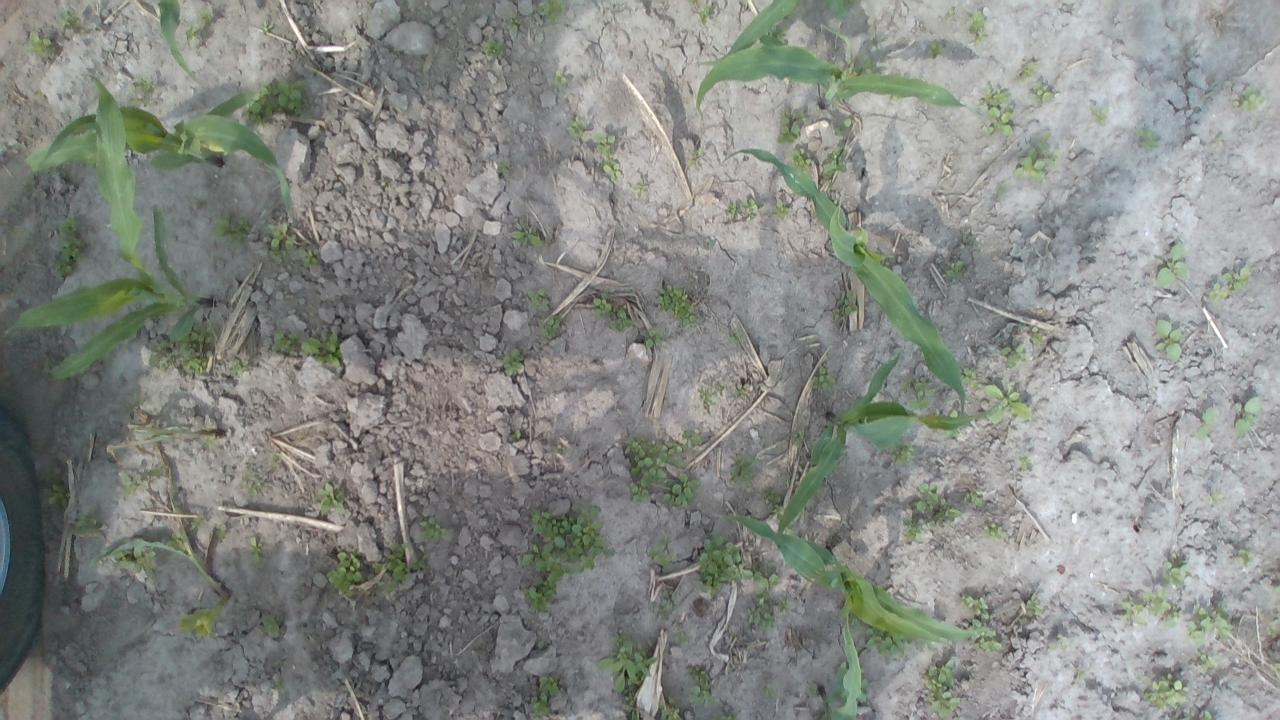Maize: (722, 144, 967, 416), (14, 77, 212, 386), (776, 352, 997, 532), (727, 511, 990, 645), (23, 86, 296, 209), (693, 21, 974, 123), (700, 0, 849, 68), (152, 0, 218, 78), (816, 620, 864, 720)
Weeds: (516, 506, 618, 580), (622, 432, 701, 508), (146, 320, 218, 378), (694, 532, 754, 598), (238, 76, 310, 130), (596, 632, 656, 695), (372, 539, 419, 594), (911, 482, 963, 530), (973, 80, 1016, 138), (922, 658, 962, 720), (1014, 131, 1063, 180), (48, 214, 84, 280), (982, 381, 1035, 425), (1184, 604, 1234, 650), (324, 548, 366, 600), (654, 282, 698, 330), (1140, 587, 1184, 631), (176, 600, 224, 640), (1208, 264, 1252, 306), (863, 622, 908, 660), (212, 207, 258, 244), (522, 568, 559, 614), (528, 672, 562, 720), (1140, 675, 1186, 710), (110, 543, 158, 576), (898, 373, 938, 412), (299, 332, 342, 368), (1154, 316, 1186, 364), (1154, 243, 1188, 288), (268, 219, 298, 266), (1233, 397, 1264, 440), (819, 146, 848, 190), (686, 664, 714, 707), (774, 110, 808, 145), (746, 590, 774, 632), (646, 588, 680, 622), (1230, 84, 1266, 116), (38, 470, 68, 508), (125, 75, 158, 109), (971, 618, 1002, 654), (267, 324, 304, 354), (23, 30, 58, 61), (184, 6, 214, 42), (647, 534, 678, 568), (412, 514, 449, 542), (724, 197, 762, 224), (1158, 556, 1190, 588), (316, 482, 347, 514), (725, 452, 753, 487), (831, 288, 860, 321), (1026, 80, 1058, 109), (958, 592, 991, 620), (509, 222, 544, 248), (1118, 597, 1148, 627), (753, 558, 779, 592), (116, 468, 144, 498), (965, 8, 987, 45), (999, 342, 1028, 370), (656, 693, 686, 720), (608, 304, 634, 335), (72, 511, 105, 535), (535, 0, 566, 25), (764, 486, 785, 522), (1086, 102, 1113, 130), (1134, 126, 1164, 151), (565, 115, 594, 140), (790, 146, 814, 176), (1195, 407, 1217, 439), (590, 131, 616, 158), (849, 50, 878, 74), (480, 36, 508, 60), (638, 323, 666, 347), (502, 348, 526, 376), (763, 22, 791, 46), (891, 441, 916, 467), (59, 8, 86, 32), (810, 366, 834, 393), (241, 469, 263, 498), (1232, 546, 1258, 570), (901, 518, 927, 542), (524, 286, 550, 310), (262, 612, 284, 640), (980, 522, 1009, 543), (957, 365, 982, 389), (590, 293, 613, 319), (536, 316, 562, 338), (942, 259, 966, 282), (622, 692, 641, 720), (165, 530, 187, 554), (698, 384, 718, 410), (771, 200, 796, 220), (602, 158, 624, 180), (1014, 58, 1038, 78), (246, 534, 264, 560), (300, 247, 322, 268), (963, 488, 985, 509), (925, 40, 946, 62), (828, 686, 850, 706), (694, 3, 714, 25), (1024, 593, 1042, 617), (1198, 651, 1218, 672), (993, 179, 1011, 202), (833, 660, 851, 682), (496, 156, 514, 177), (1266, 616, 1280, 642), (1206, 485, 1224, 505), (686, 148, 706, 166), (834, 115, 852, 135), (228, 357, 245, 377), (670, 628, 692, 642), (553, 70, 570, 88), (711, 708, 736, 720), (1019, 453, 1034, 471), (510, 12, 522, 34), (1030, 326, 1043, 346), (760, 686, 776, 702), (804, 684, 820, 700), (942, 428, 964, 439), (1053, 636, 1070, 650), (734, 382, 748, 398), (148, 466, 162, 481), (634, 180, 649, 194), (779, 596, 792, 612), (796, 431, 808, 448), (193, 197, 208, 210), (729, 333, 743, 345), (1200, 709, 1214, 720), (190, 518, 202, 530), (946, 408, 959, 419), (844, 0, 861, 8), (509, 428, 521, 439), (1269, 662, 1280, 674), (946, 6, 958, 17), (1076, 668, 1086, 681), (260, 22, 272, 32)
